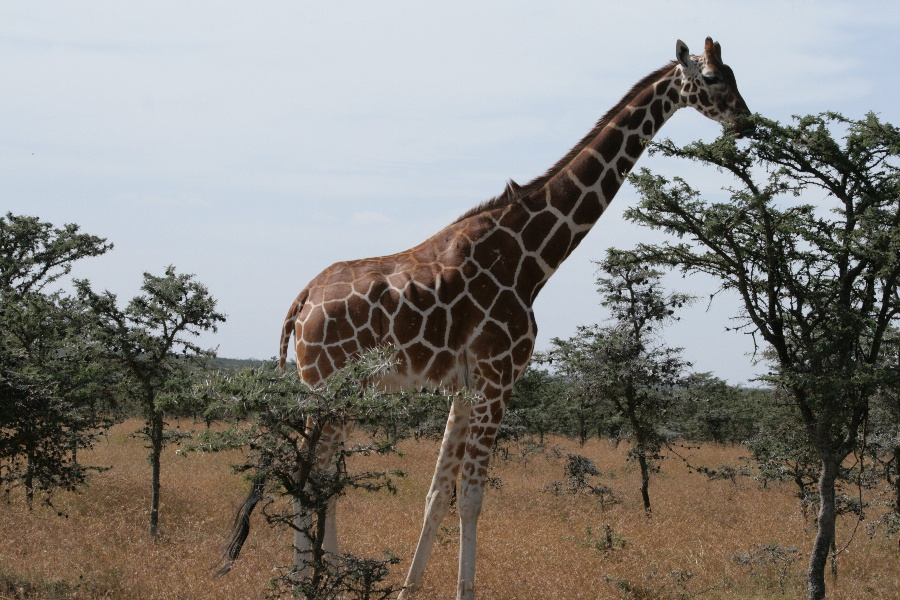giraffe: (237, 26, 770, 599)
